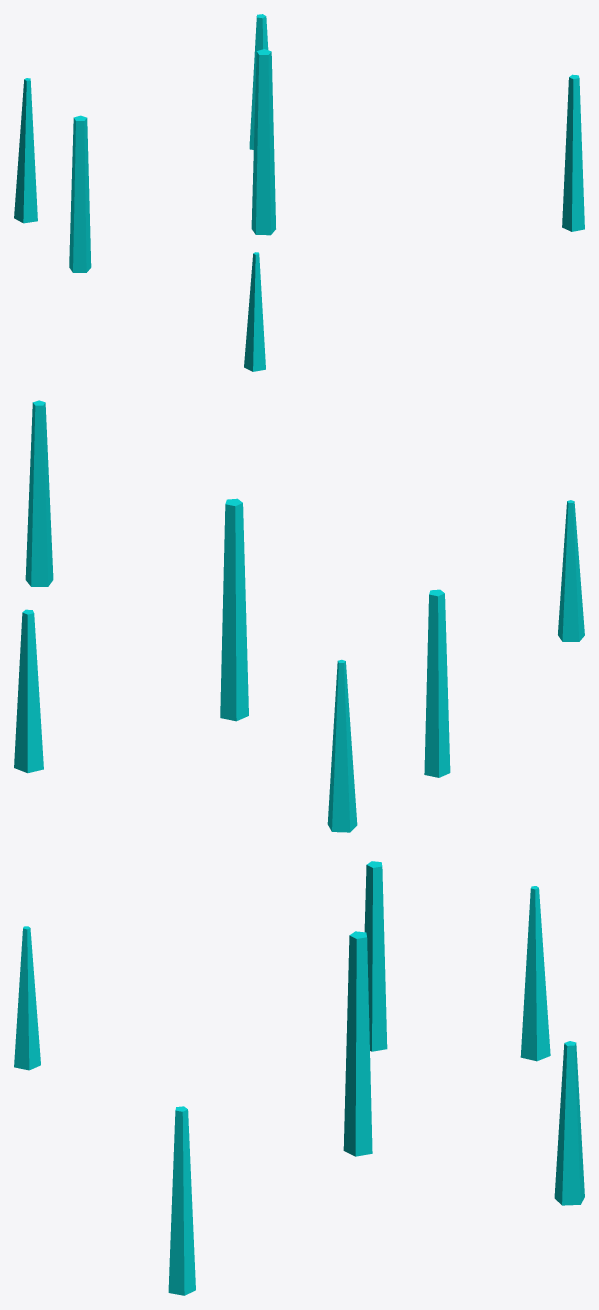
The model's file is SM_Env_Tree_Group_03_Collision.fbx.
3 renders of one model, top to bottom at view 1: azimuth 30°, elevation 25°; view 2: azimuth 150°, elevation 25°; view 3: azimuth 270°, elevation 25°, orthographic. The views are drawn at different scales.
Parts seen in each view (by area): view 1: SM_Env_Tree_Group_03_Collision; view 2: SM_Env_Tree_Group_03_Collision; view 3: SM_Env_Tree_Group_03_Collision.
Part boxes in pixels (x1,y1,x2,y2): SM_Env_Tree_Group_03_Collision: (14, 14, 584, 371); SM_Env_Tree_Group_03_Collision: (14, 400, 584, 832); SM_Env_Tree_Group_03_Collision: (14, 861, 584, 1295).
Bounding box in the file's own units: 939 × 371 × 888.
